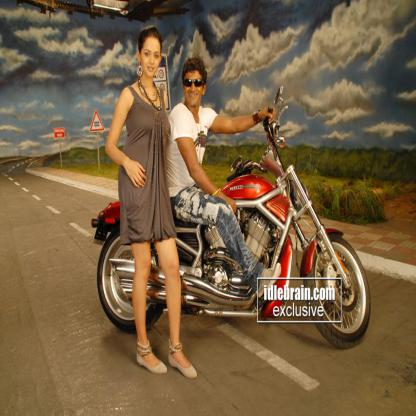face: (142, 37, 162, 77), (185, 70, 204, 106)
